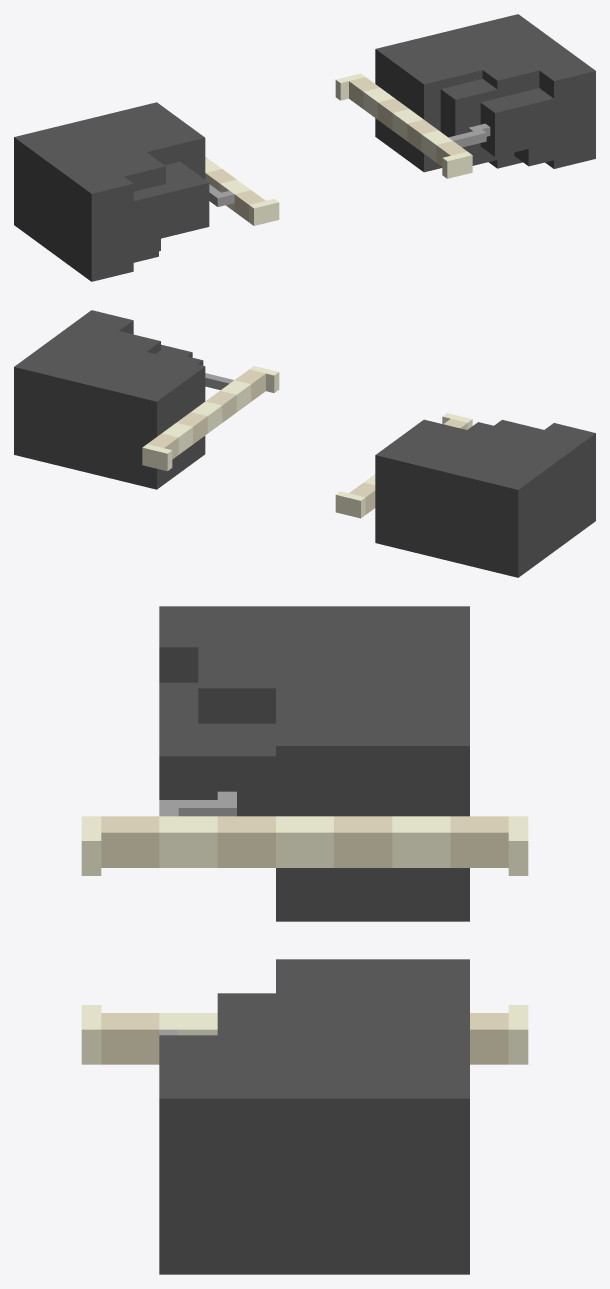
File: gate 1x1.obj
The picture shows the model from 3 angles, top to bottom: view 1: azimuth 30°, elevation 25°; view 2: azimuth 150°, elevation 25°; view 3: azimuth 270°, elevation 25°; orthographic projection. The views are drawn at different scales.
Size of the model in its own units: 60 by 10 by 23.
1 material, 1 textured.
